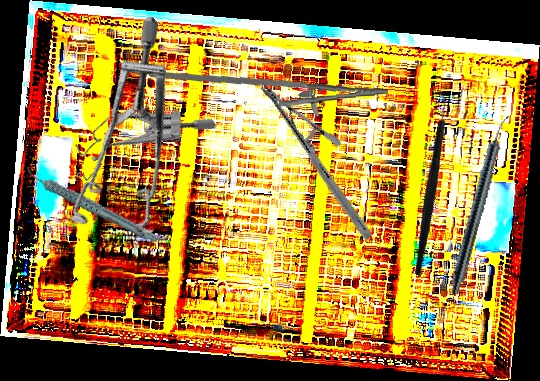Chopper: (352, 88, 505, 277)
Handpiece: (23, 141, 161, 267), (447, 112, 513, 297)
Needle Holder: (221, 81, 411, 242), (149, 58, 390, 126)
Speculum: (8, 14, 261, 267), (58, 64, 219, 220)
